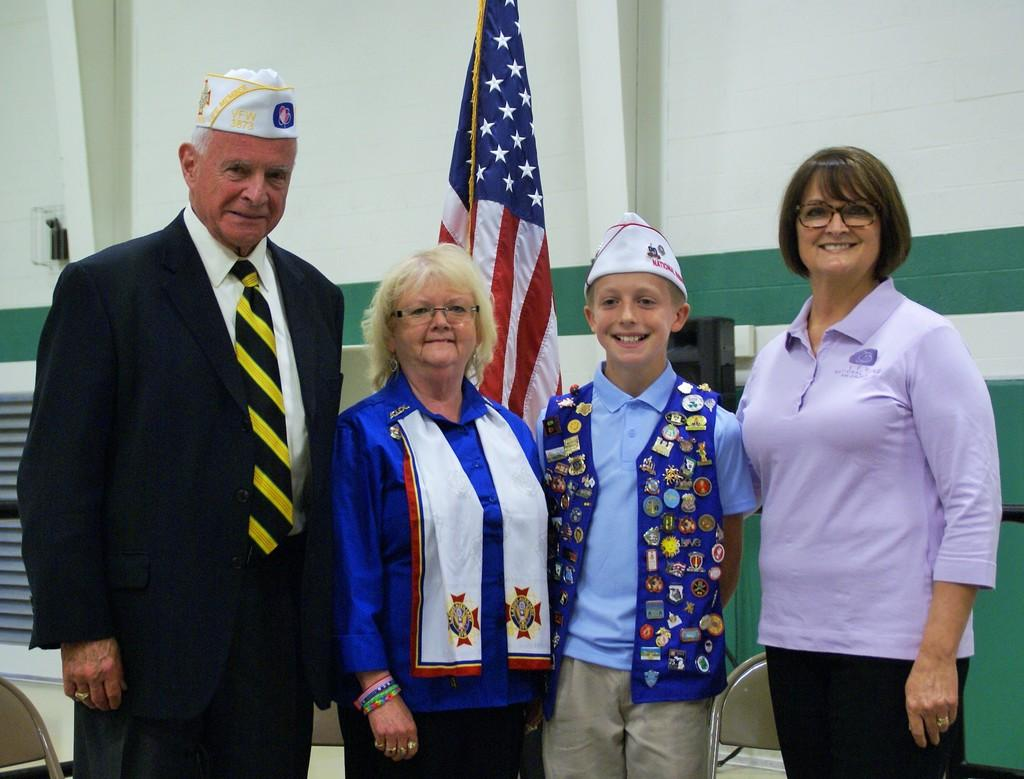no_helmet: (760, 187, 944, 347), (162, 126, 320, 290), (554, 243, 705, 383), (370, 264, 516, 396)
none: (40, 268, 338, 594), (728, 314, 998, 628), (354, 384, 566, 632), (536, 376, 740, 607)
